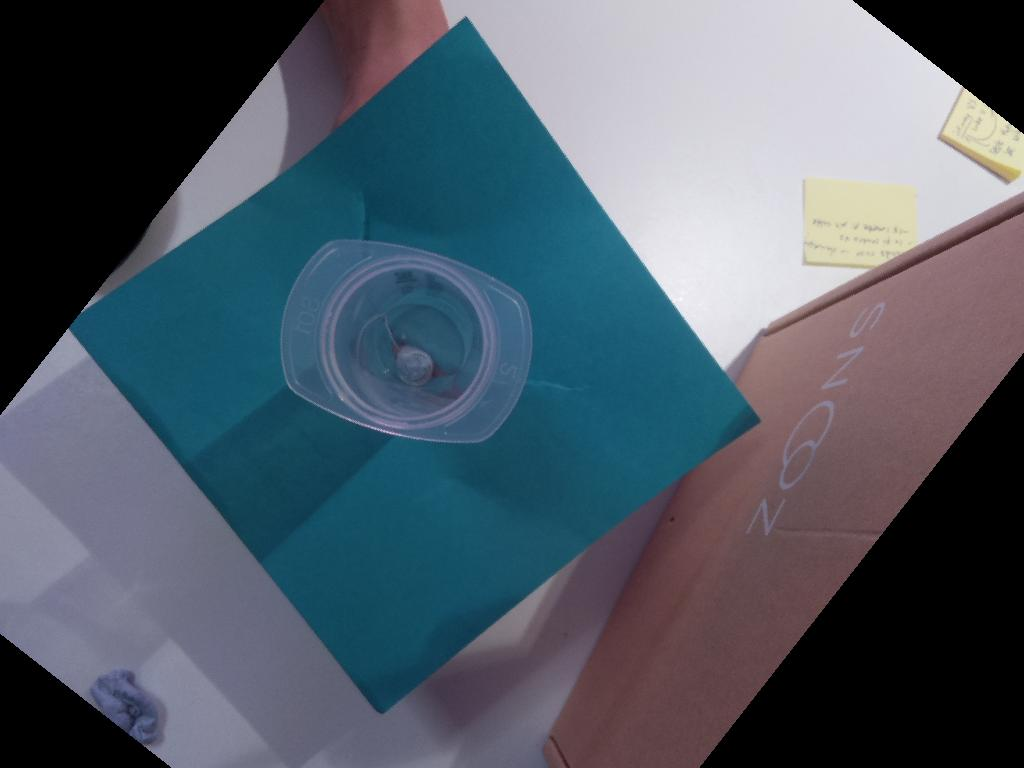clean: (277, 237, 535, 444)
